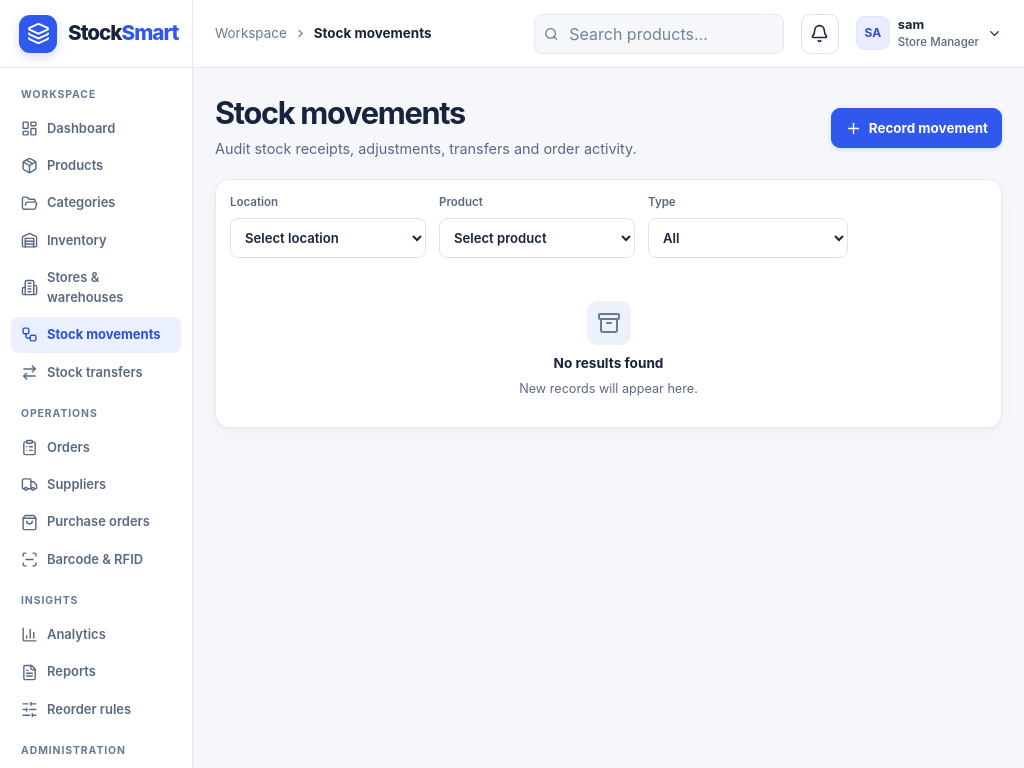
Test case: validates movement direction and posts a signed stock adjustment
Later steps or results of the test are not shown.
Click the button "Record movement" at (916, 128), box x1=831 y1=108 x2=1002 y2=148
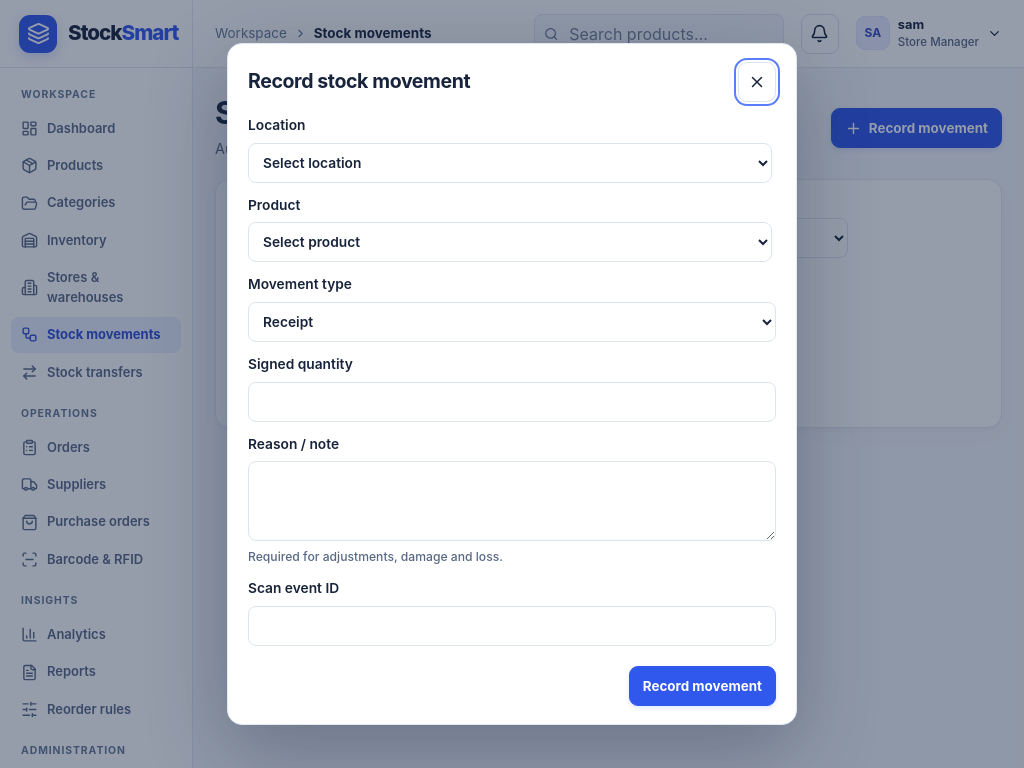
Select "Central Store" in the dropdown labelled "Location" at (510, 163), box x1=248 y1=143 x2=772 y2=183
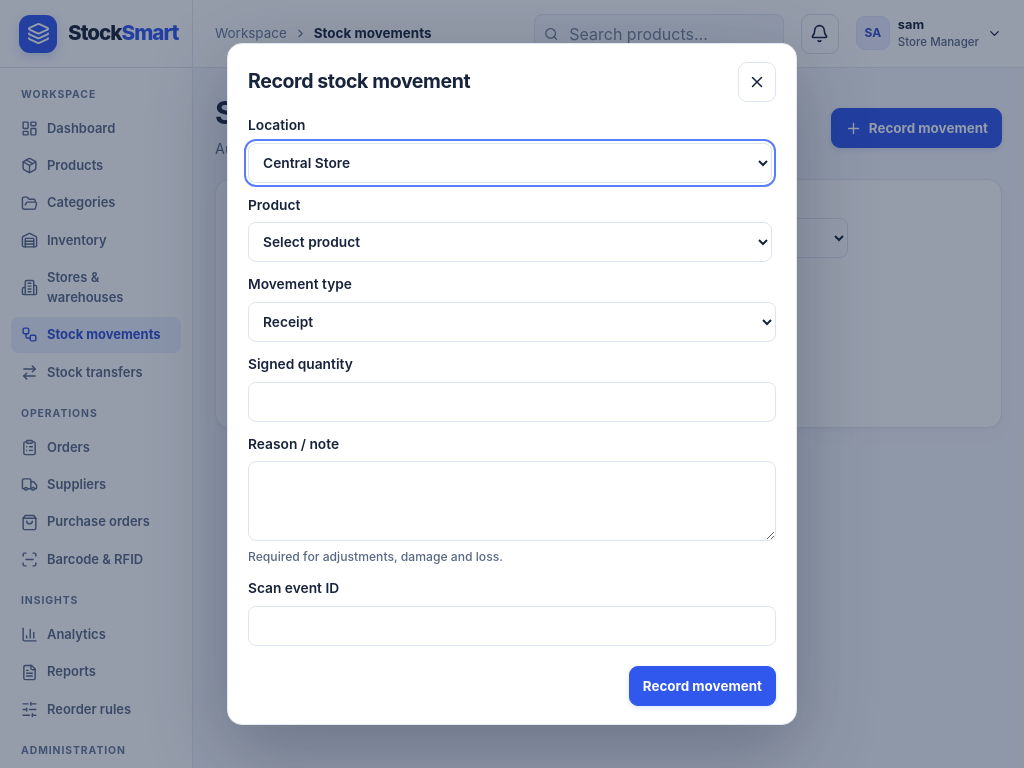
Select "Steel mug · MUG-7" in the dropdown labelled "Product" at (510, 242), box x1=248 y1=222 x2=772 y2=262
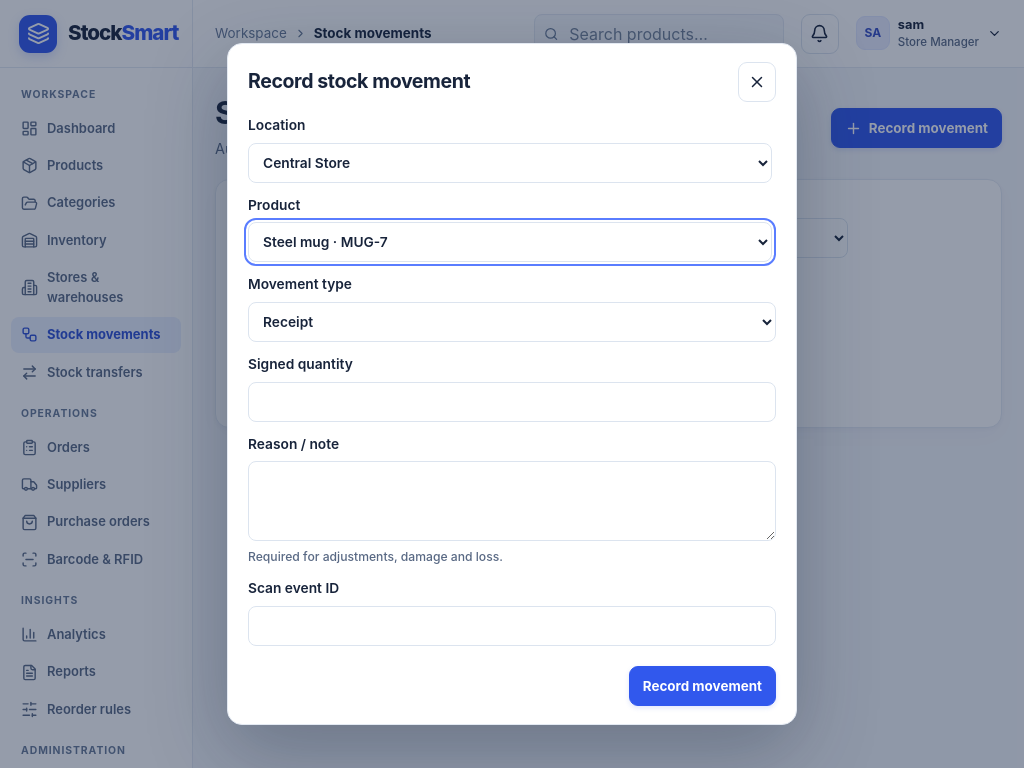
Type "-3" into the number field labelled "Signed quantity" at (512, 402), box x1=248 y1=382 x2=776 y2=422
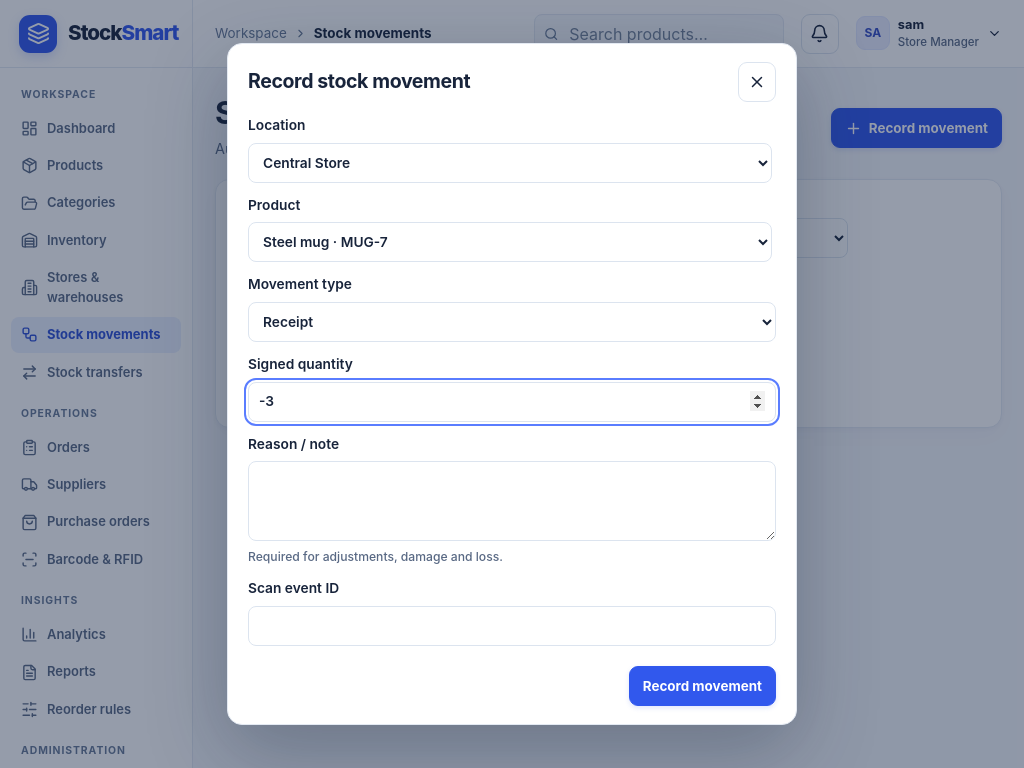
Click the button "Record movement" at (702, 686), box x1=629 y1=666 x2=776 y2=706
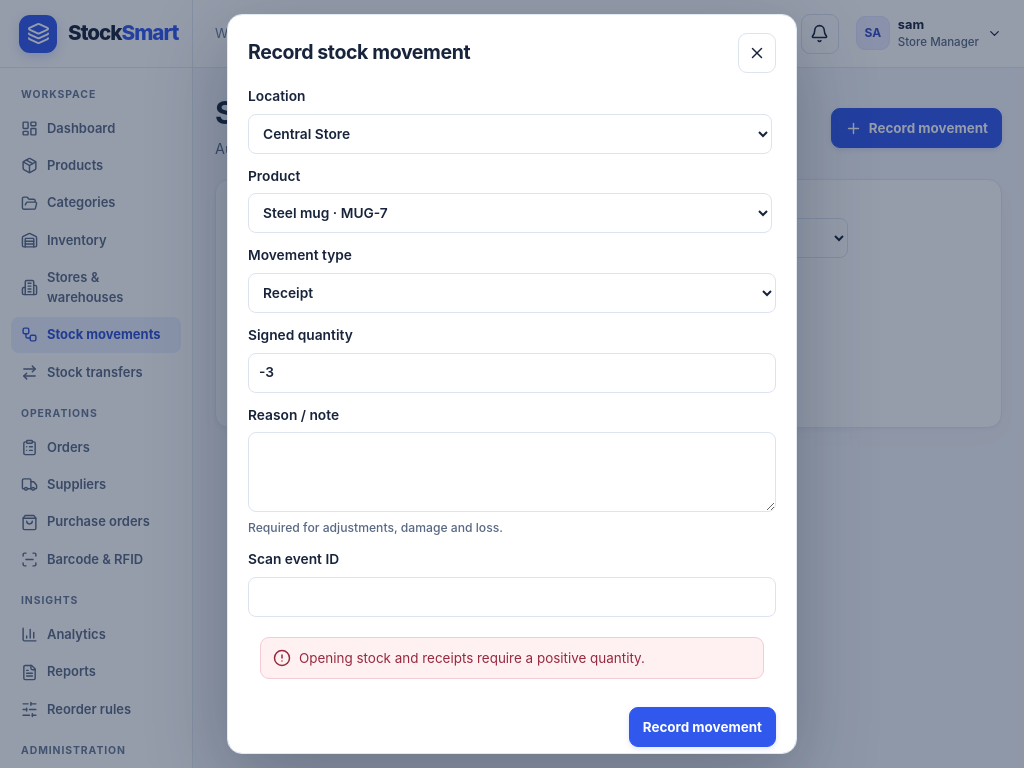
Expected: the message shows "require a positive quantity", x1=299 y1=650 x2=645 y2=666
